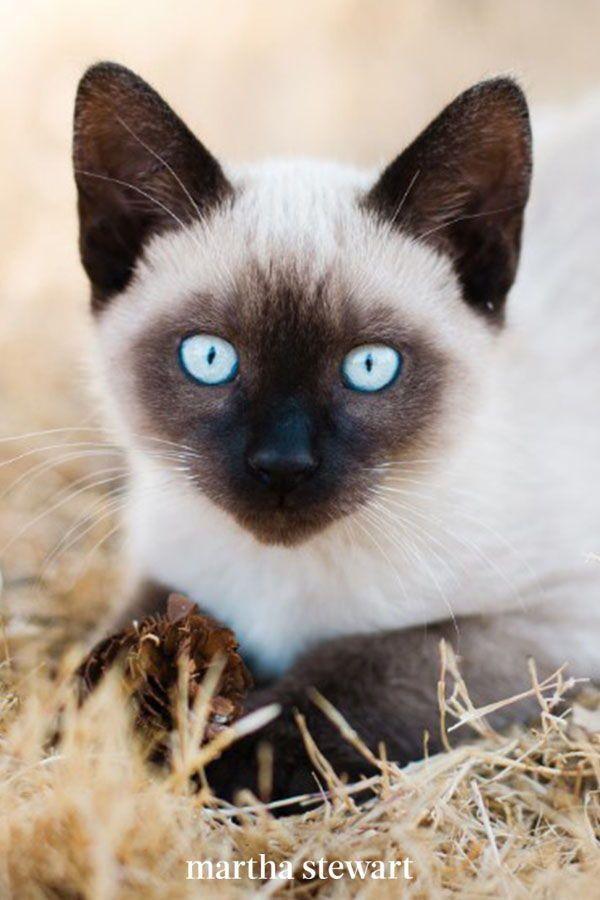siamese: (61, 54, 551, 562)
